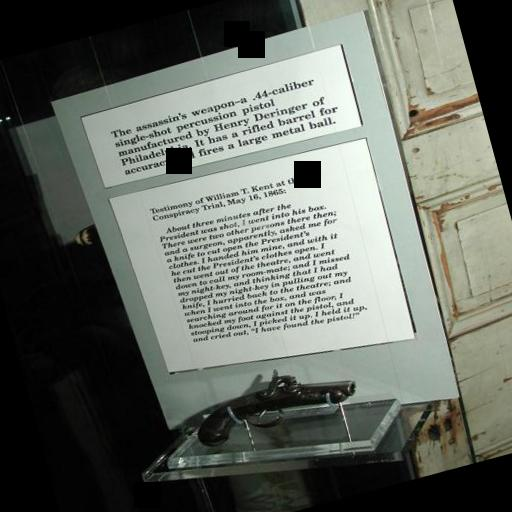Handgun: (181, 345, 366, 454)
